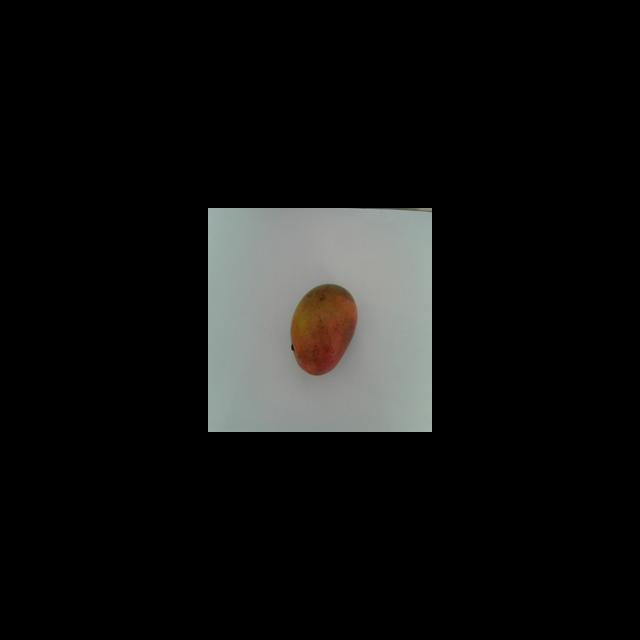Mango: (289, 283, 357, 375)
